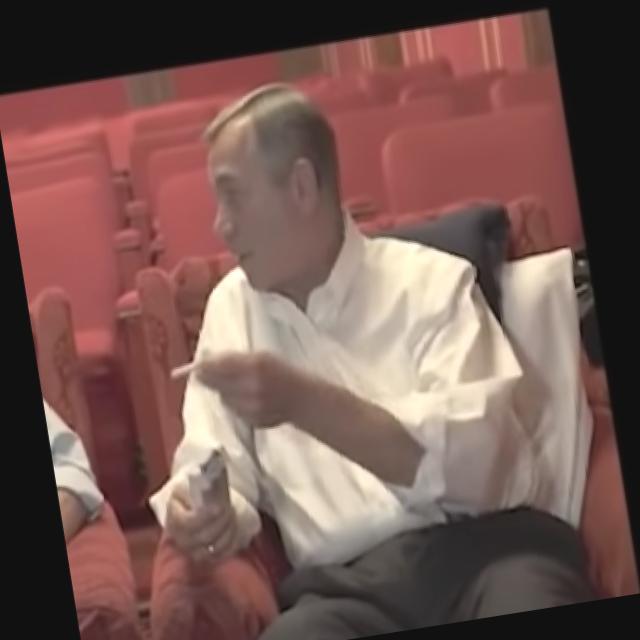cigarette: (166, 358, 204, 387)
